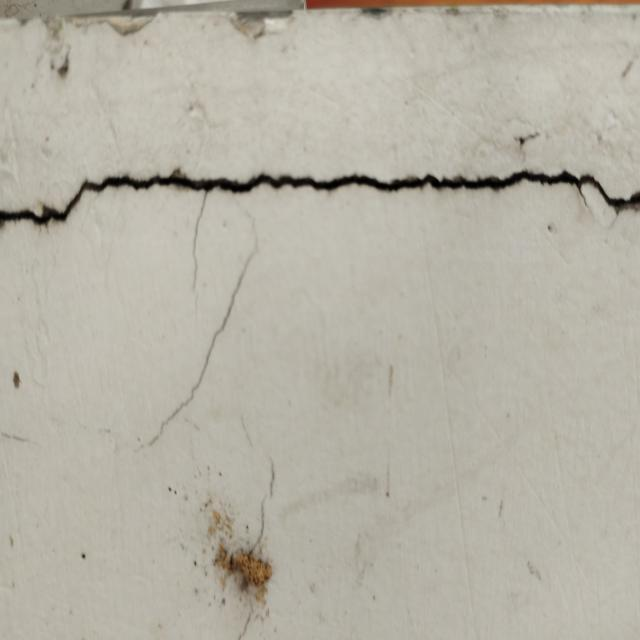horizontal crack: (0, 170, 639, 227)
